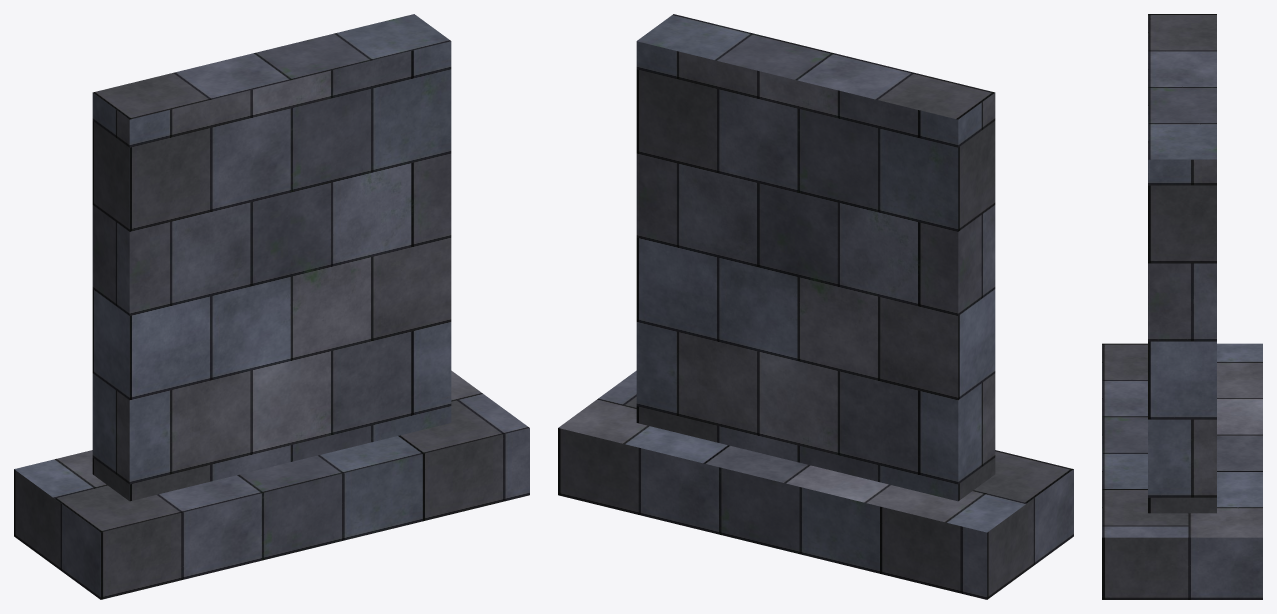
Rendered from SM_dg_tablet.glb.
The picture shows the model from 3 angles, left to right: view 1: azimuth 30°, elevation 25°; view 2: azimuth 150°, elevation 25°; view 3: azimuth 270°, elevation 25°; orthographic projection. The views are drawn at different scales.
Visible parts, largest first — view 1: SM_dg_tablet; view 2: SM_dg_tablet; view 3: SM_dg_tablet.
Boxes of the visible parts, left/top/right/bottom form: SM_dg_tablet: left=14, top=14, right=529, bottom=599; SM_dg_tablet: left=558, top=14, right=1073, bottom=599; SM_dg_tablet: left=1102, top=14, right=1262, bottom=599.
Size of the model in its own units: 2 by 2 by 0.7.
1 material, 1 textured.
